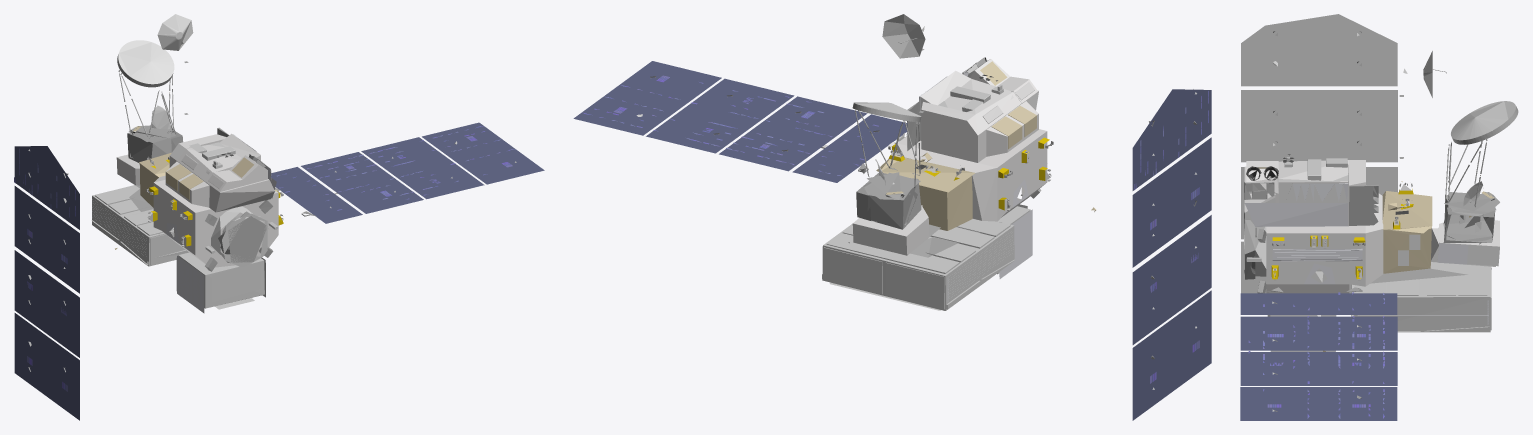
Rendered from gpm.glb.
3 renders of one model, left to right at view 1: azimuth 30°, elevation 25°; view 2: azimuth 150°, elevation 25°; view 3: azimuth 270°, elevation 25°, orthographic. The views are drawn at different scales.
Parts seen in each view (by area): view 1: GPM-MainBus; view 2: GPM-MainBus; view 3: GPM-MainBus.
Boxes of the visible parts, box(x1,y1,x2,y2) form: GPM-MainBus: box(14, 14, 544, 420); GPM-MainBus: box(573, 14, 1211, 420); GPM-MainBus: box(1240, 14, 1518, 420).
Bounding box in the file's own units: 1 × 0.6267 × 0.4324.
